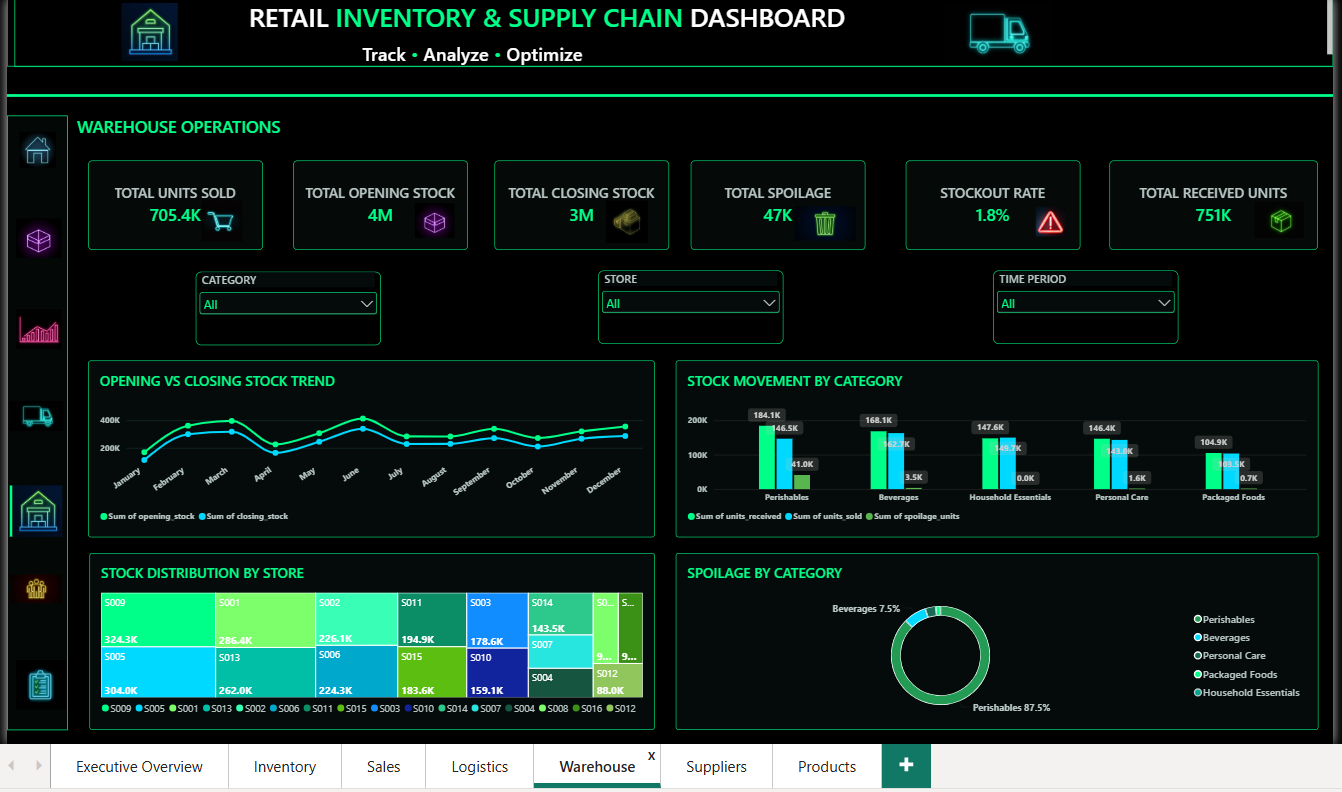

Layout of this report page (visuals, bound fields, positions):
{"tool":"powerbi","page":{"name":"Warehouse","canvas":[1920,1080],"ordinal":4},"visuals":[{"type":"shape","box":[10.3,0,1910.1,100],"z":0},{"type":"shape","box":[0,99.5,1920.1,83.2],"z":1000},{"type":"textbox","box":[0,0,1920.1,99.5],"z":2000},{"type":"image","box":[1356,0,156,100],"z":3000},{"type":"shape","box":[0,170,88,890],"z":4000},{"type":"image","box":[10.9,193.6,67,52.5],"z":5000},{"type":"shape","box":[0,706,12,74],"z":6000},{"type":"image","box":[12,300,66,94],"z":7000},{"type":"image","box":[12,418,66,122],"z":8000},{"type":"image","box":[4,560,78,92],"z":9000},{"type":"image","box":[8,706,74,74],"z":10000},{"type":"image","box":[6,780,74,150],"z":11000},{"type":"image","box":[12,932,72,124],"z":12000},{"type":"textbox","box":[102,170,312,50],"z":13000},{"type":"cardVisual","fields":{"Data":["inventory_ledger_clean.Total Units Sold"]},"box":[117.4,234.7,253,129.5],"z":14000},{"type":"cardVisual","fields":{"Data":["Sum(inventory_ledger_clean.opening_stock)"]},"box":[414.8,234.7,253,129.5],"z":15000},{"type":"cardVisual","fields":{"Data":["inventory_ledger_clean.Total Closing Stock"]},"box":[706.2,234.7,253,129.5],"z":16000},{"type":"cardVisual","fields":{"Data":["Sum(inventory_ledger_clean.spoilage_units)"]},"box":[989.5,234.7,253,129.5],"z":17000},{"type":"cardVisual","fields":{"Data":["inventory_ledger_clean.Stockout Rate"]},"box":[1301.2,234.7,253,129.5],"z":18000},{"type":"cardVisual","fields":{"Data":["Sum(inventory_ledger_clean.units_received)"]},"box":[1596.6,234.7,301.5,129.5],"z":19000},{"type":"lineChart","title":"OPENING VS CLOSING STOCK TREND","fields":{"Category":["inventory_ledger_clean.week_start.Variation.Date Hierarchy.Month"],"Y":["Sum(inventory_ledger_clean.opening_stock)","Sum(inventory_ledger_clean.closing_stock)"]},"box":[118,524,820,256],"z":20000},{"type":"donutChart","title":"SPOILAGE BY CATEGORY","fields":{"Category":["inventory_ledger_clean.category"],"Y":["Sum(inventory_ledger_clean.spoilage_units)"]},"box":[968,804,930,256],"z":21000},{"type":"treemap","title":"STOCK DISTRIBUTION BY STORE","fields":{"Group":["inventory_ledger_clean.store_id"],"Values":["Sum(inventory_ledger_clean.closing_stock)"]},"box":[120,804,818,256],"z":22000},{"type":"clusteredColumnChart","title":"STOCK MOVEMENT BY CATEGORY","fields":{"Category":["inventory_ledger_clean.category"],"Y":["Sum(inventory_ledger_clean.units_received)","Sum(inventory_ledger_clean.units_sold)","Sum(inventory_ledger_clean.spoilage_units)"]},"box":[968,524,930,256],"z":23000},{"type":"slicer","fields":{"Values":["inventory_ledger_clean.category"]},"box":[274,396,268,106],"z":24000},{"type":"slicer","fields":{"Values":["inventory_ledger_clean.store_id"]},"box":[856,394,268,106],"z":25000},{"type":"slicer","fields":{"Values":["inventory_ledger_clean.week_start"]},"box":[1428,394,268,106],"z":26000},{"type":"image","box":[84,8,246,84],"z":27000},{"type":"image","box":[273.3,293.2,76,59.7],"z":28000},{"type":"image","box":[1474.9,302.2,72.4,43.4],"z":29000},{"type":"image","box":[1806,293.2,72.4,56.1],"z":30000},{"type":"image","box":[586.3,296.8,65.1,50.7],"z":31000},{"type":"image","box":[856,293.2,83.2,61.5],"z":32000},{"type":"image","box":[1140.1,298.6,88.7,56.1],"z":33000}]}

Visuals, with their boxes on the page's 1920x1080 design canvas (x1, y1, x2, y2). These are canvas units, not pixel positions in the 1342x792 screenshot, which may show the page scaled, cropped or inside an application window:
shape: box(10, 0, 1920, 100)
shape: box(0, 100, 1920, 183)
textbox: box(0, 0, 1920, 100)
image: box(1356, 0, 1512, 100)
shape: box(0, 170, 88, 1060)
image: box(11, 194, 78, 246)
shape: box(0, 706, 12, 780)
image: box(12, 300, 78, 394)
image: box(12, 418, 78, 540)
image: box(4, 560, 82, 652)
image: box(8, 706, 82, 780)
image: box(6, 780, 80, 930)
image: box(12, 932, 84, 1056)
textbox: box(102, 170, 414, 220)
cardVisual - inventory_ledger_clean.Total Units Sold: box(117, 235, 370, 364)
cardVisual - Sum(inventory_ledger_clean.opening_stock): box(415, 235, 668, 364)
cardVisual - inventory_ledger_clean.Total Closing Stock: box(706, 235, 959, 364)
cardVisual - Sum(inventory_ledger_clean.spoilage_units): box(990, 235, 1242, 364)
cardVisual - inventory_ledger_clean.Stockout Rate: box(1301, 235, 1554, 364)
cardVisual - Sum(inventory_ledger_clean.units_received): box(1597, 235, 1898, 364)
"OPENING VS CLOSING STOCK TREND" lineChart: box(118, 524, 938, 780)
"SPOILAGE BY CATEGORY" donutChart: box(968, 804, 1898, 1060)
"STOCK DISTRIBUTION BY STORE" treemap: box(120, 804, 938, 1060)
"STOCK MOVEMENT BY CATEGORY" clusteredColumnChart: box(968, 524, 1898, 780)
slicer - inventory_ledger_clean.category: box(274, 396, 542, 502)
slicer - inventory_ledger_clean.store_id: box(856, 394, 1124, 500)
slicer - inventory_ledger_clean.week_start: box(1428, 394, 1696, 500)
image: box(84, 8, 330, 92)
image: box(273, 293, 349, 353)
image: box(1475, 302, 1547, 346)
image: box(1806, 293, 1878, 349)
image: box(586, 297, 651, 348)
image: box(856, 293, 939, 355)
image: box(1140, 299, 1229, 355)
